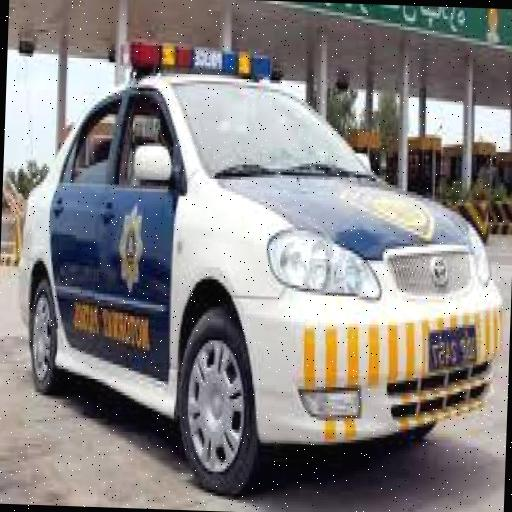Ambulance: (3, 27, 510, 512)
